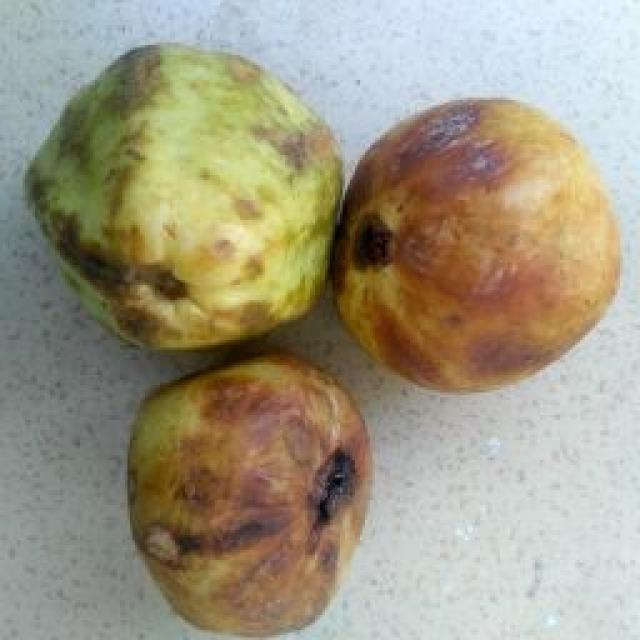Bad_Guava: (335, 99, 619, 391), (129, 355, 371, 634)
